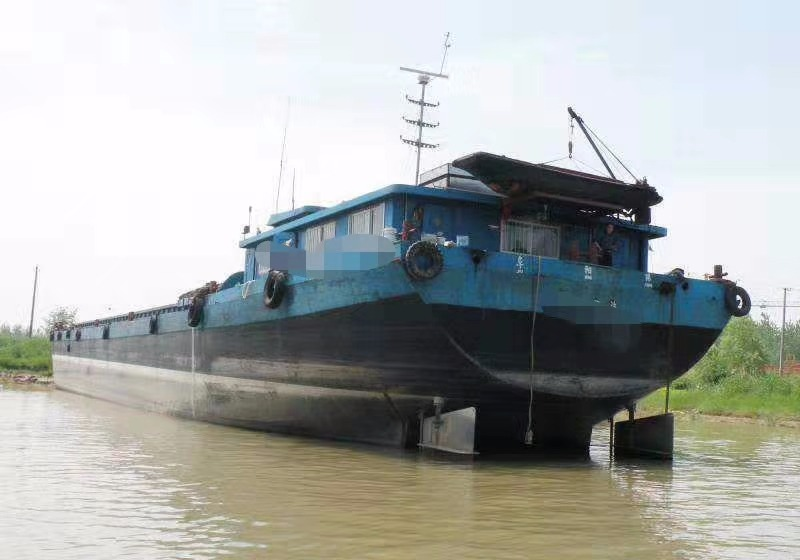Cargoship: (36, 60, 757, 464)
